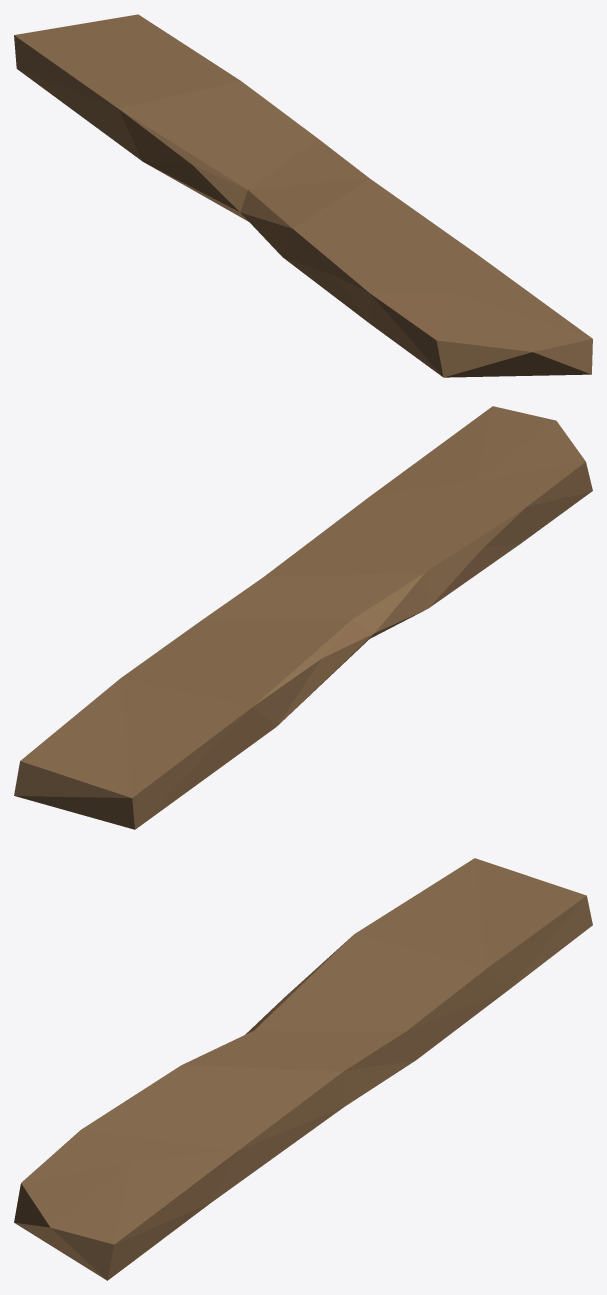
The model's file is Desk_03.fbx.
3 renders of one model, top to bottom at view 1: azimuth 30°, elevation 25°; view 2: azimuth 150°, elevation 25°; view 3: azimuth 330°, elevation 25°, orthographic. The views are drawn at different scales.
Parts seen in each view (by area): view 1: Desk_03; view 2: Desk_03; view 3: Desk_03.
Boxes of the visible parts, <box> form: Desk_03: <box>14,14,592,377</box>; Desk_03: <box>14,406,592,829</box>; Desk_03: <box>14,858,592,1280</box>.
Size of the model in its own units: 0.4356 by 0.1339 by 2.74.
